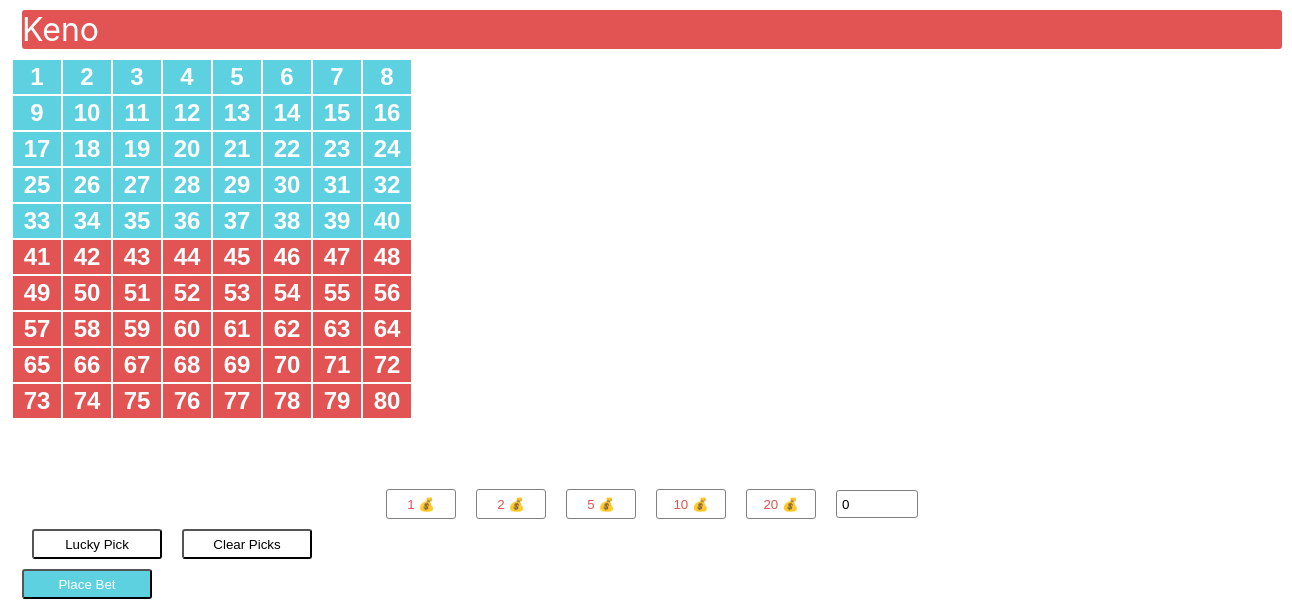
Test: Click Place Bet after inputting stake with more than 2dp renders too many decimals prompt
Replace the text in the field named "stake-input" with "23.456" at (877, 504), box [836, 490, 918, 518]
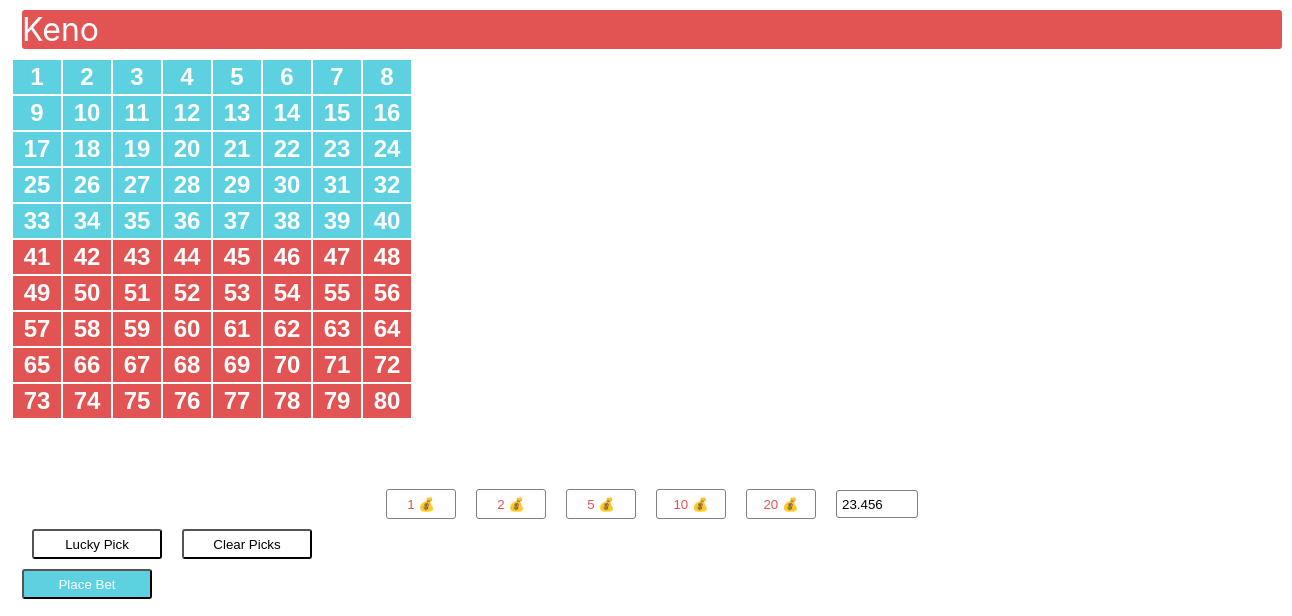
Click the button "Place Bet" at (87, 584), box [22, 569, 152, 599]
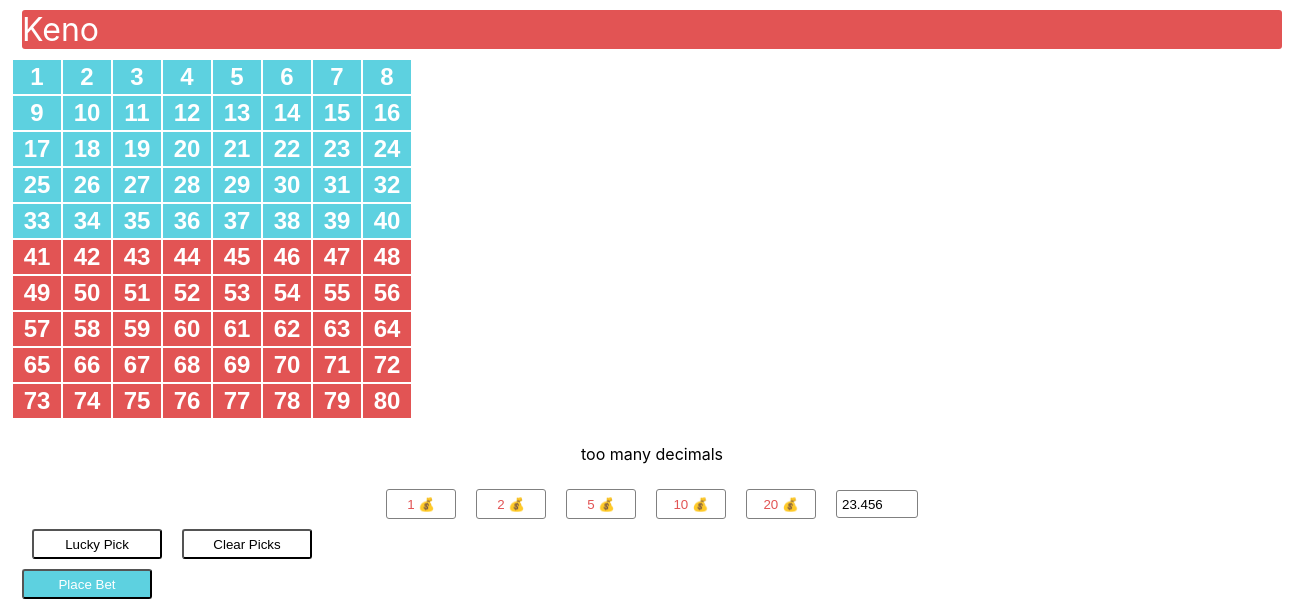
Check: the text "too many decimals" is shown, box [581, 444, 723, 464]
